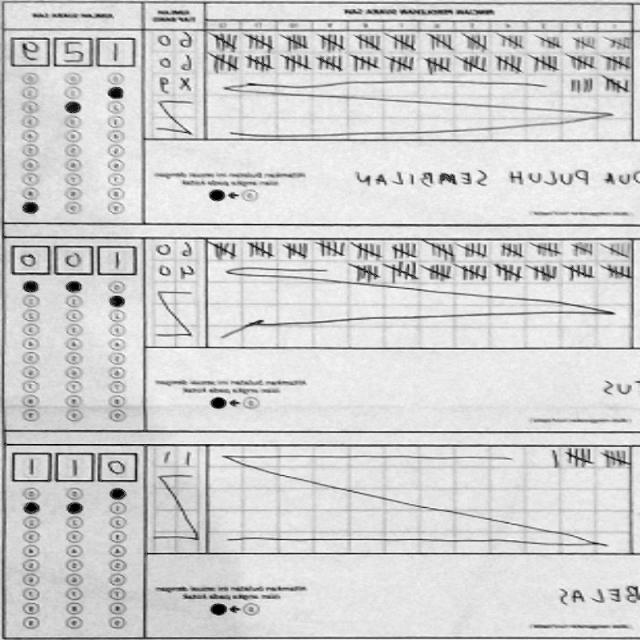Suara: (12, 447, 146, 485), (6, 30, 140, 68), (7, 242, 142, 279)
